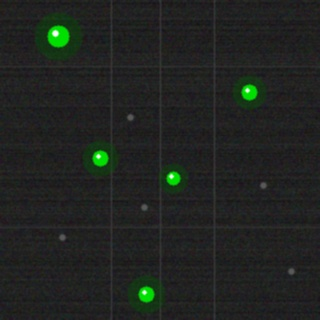green_normal: (45, 23, 71, 49), (136, 284, 156, 304), (239, 82, 259, 102), (90, 148, 110, 168), (164, 169, 182, 187)
